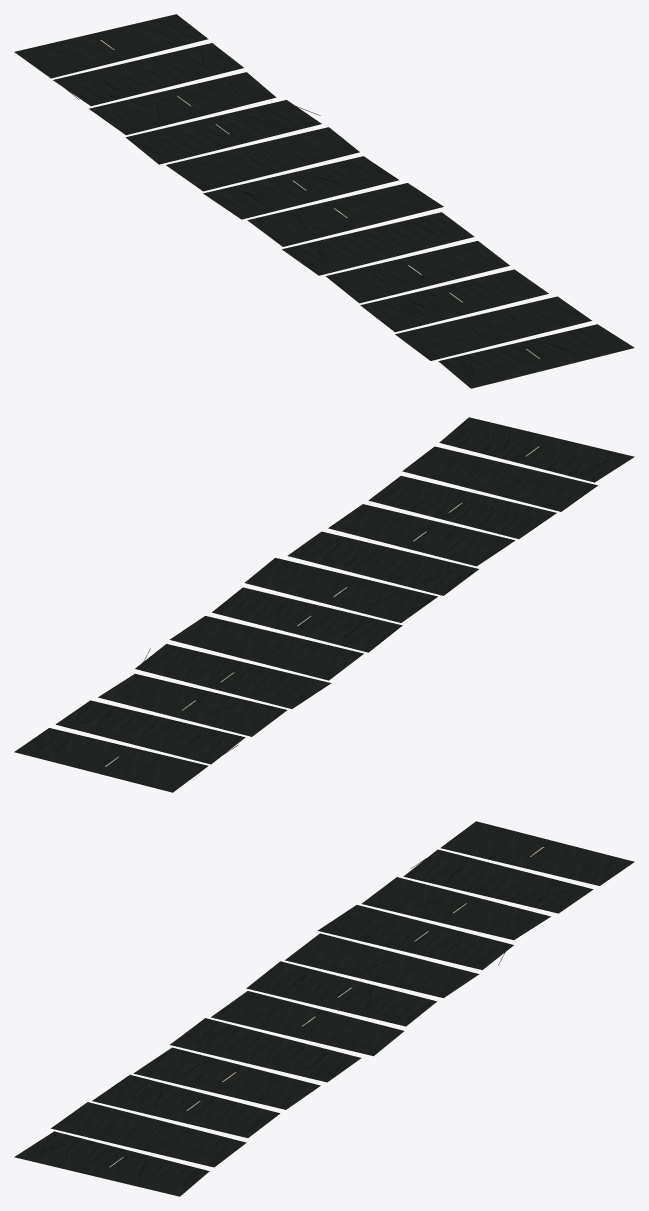
File: road_slab.gltf
3 renders of one model, top to bottom at view 1: azimuth 30°, elevation 25°; view 2: azimuth 150°, elevation 25°; view 3: azimuth 330°, elevation 25°, orthographic.
Visible parts, largest first — view 1: Cracked_asphalt_piece.010, Cracked_asphalt_piece.003, Cracked_asphalt_piece.011, Cracked_asphalt_piece.006, Cracked_asphalt_piece.004, Cracked_asphalt_piece, Cracked_asphalt_piece.005, Cracked_asphalt_piece.007, Cracked_asphalt_piece.001, Cracked_asphalt_piece.009, Cracked_asphalt_piece.002, Cracked_asphalt_piece.008; view 2: Cracked_asphalt_piece.010, Cracked_asphalt_piece.003, Cracked_asphalt_piece.011, Cracked_asphalt_piece.006, Cracked_asphalt_piece.004, Cracked_asphalt_piece, Cracked_asphalt_piece.005, Cracked_asphalt_piece.007, Cracked_asphalt_piece.001, Cracked_asphalt_piece.002, Cracked_asphalt_piece.009, Cracked_asphalt_piece.008; view 3: Cracked_asphalt_piece.010, Cracked_asphalt_piece.003, Cracked_asphalt_piece.011, Cracked_asphalt_piece.006, Cracked_asphalt_piece.004, Cracked_asphalt_piece, Cracked_asphalt_piece.005, Cracked_asphalt_piece.007, Cracked_asphalt_piece.001, Cracked_asphalt_piece.002, Cracked_asphalt_piece.009, Cracked_asphalt_piece.008.
Part boxes in pixels (x1=…): Cracked_asphalt_piece.010: x1=395, y1=296, x2=591, y2=360; Cracked_asphalt_piece.003: x1=126, y1=100, x2=321, y2=164; Cracked_asphalt_piece.011: x1=438, y1=324, x2=634, y2=388; Cracked_asphalt_piece.006: x1=247, y1=183, x2=443, y2=246; Cracked_asphalt_piece.004: x1=166, y1=127, x2=359, y2=191; Cracked_asphalt_piece: x1=14, y1=14, x2=208, y2=78; Cracked_asphalt_piece.005: x1=203, y1=156, x2=399, y2=219; Cracked_asphalt_piece.007: x1=282, y1=212, x2=474, y2=275; Cracked_asphalt_piece.001: x1=53, y1=43, x2=243, y2=106; Cracked_asphalt_piece.009: x1=360, y1=269, x2=548, y2=332; Cracked_asphalt_piece.002: x1=89, y1=72, x2=276, y2=135; Cracked_asphalt_piece.008: x1=325, y1=241, x2=509, y2=303; Cracked_asphalt_piece.010: x1=402, y1=446, x2=597, y2=511; Cracked_asphalt_piece.003: x1=135, y1=644, x2=331, y2=708; Cracked_asphalt_piece.011: x1=439, y1=417, x2=634, y2=482; Cracked_asphalt_piece.006: x1=244, y1=557, x2=437, y2=622; Cracked_asphalt_piece.004: x1=169, y1=616, x2=363, y2=680; Cracked_asphalt_piece: x1=14, y1=728, x2=208, y2=792; Cracked_asphalt_piece.005: x1=212, y1=587, x2=402, y2=652; Cracked_asphalt_piece.007: x1=287, y1=531, x2=478, y2=595; Cracked_asphalt_piece.001: x1=55, y1=700, x2=245, y2=764; Cracked_asphalt_piece.002: x1=98, y1=673, x2=287, y2=736; Cracked_asphalt_piece.009: x1=368, y1=476, x2=556, y2=538; Cracked_asphalt_piece.008: x1=328, y1=504, x2=515, y2=566; Cracked_asphalt_piece.010: x1=51, y1=1102, x2=246, y2=1167; Cracked_asphalt_piece.003: x1=317, y1=905, x2=513, y2=969; Cracked_asphalt_piece.011: x1=14, y1=1131, x2=209, y2=1196; Cracked_asphalt_piece.006: x1=211, y1=991, x2=404, y2=1056; Cracked_asphalt_piece.004: x1=285, y1=933, x2=479, y2=997; Cracked_asphalt_piece: x1=440, y1=821, x2=634, y2=885; Cracked_asphalt_piece.005: x1=246, y1=961, x2=436, y2=1026; Cracked_asphalt_piece.007: x1=170, y1=1018, x2=361, y2=1082; Cracked_asphalt_piece.001: x1=403, y1=849, x2=593, y2=913; Cracked_asphalt_piece.002: x1=361, y1=877, x2=550, y2=940; Cracked_asphalt_piece.009: x1=92, y1=1075, x2=280, y2=1137; Cracked_asphalt_piece.008: x1=133, y1=1047, x2=320, y2=1109.
Bounding box in the file's own units: 10.29 × 0.0191 × 47.8.
Materials: 3 (3 with a texture image).
